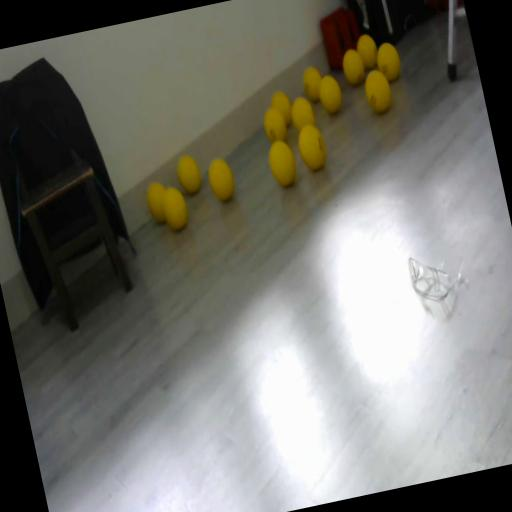FUEL: (293, 120, 329, 172), (264, 138, 300, 188), (204, 154, 238, 204), (362, 67, 394, 115), (142, 178, 173, 224), (372, 39, 404, 83), (174, 152, 204, 196), (287, 93, 318, 133), (259, 104, 289, 145), (338, 46, 367, 88), (353, 31, 380, 70), (300, 64, 326, 103)
